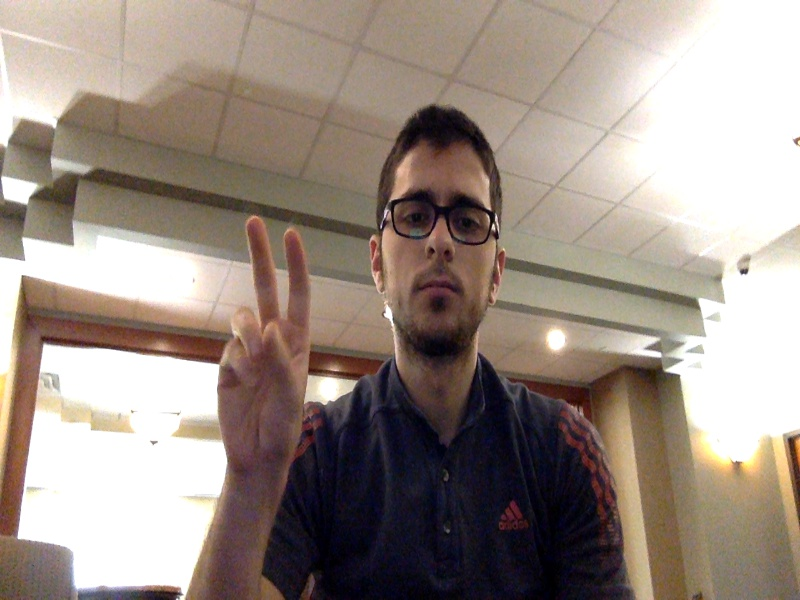2-hand: (220, 215, 312, 474)
